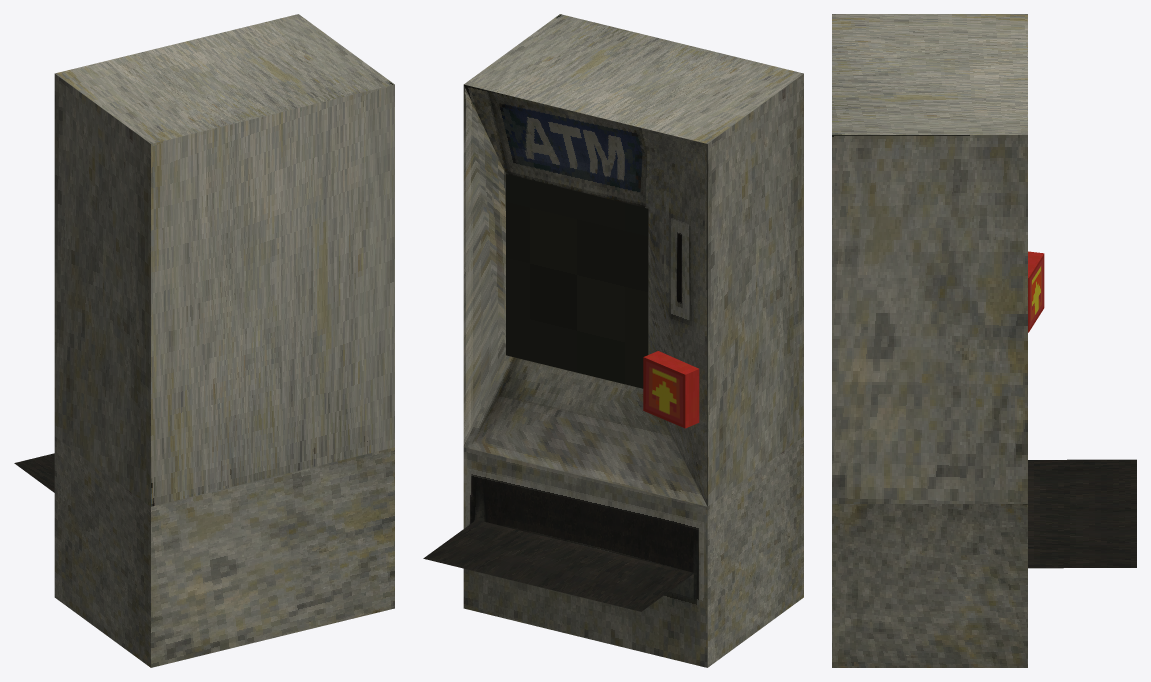
File: ATM.glb
3 renders of one model, left to right at view 1: azimuth 30°, elevation 25°; view 2: azimuth 150°, elevation 25°; view 3: azimuth 270°, elevation 25°, orthographic.
Parts seen in each view (by area): view 1: mesh (×3); view 2: mesh (×3), group; view 3: mesh (×3), group.
Part boxes in pixels (x1,y1,x2,y2): mesh (×3): (14, 14, 394, 667); mesh (×3): (423, 14, 803, 667); group: (643, 351, 699, 428); mesh (×3): (832, 14, 1136, 667); group: (1028, 251, 1044, 332).
Size of the model in its own units: 1.19 by 2.44 by 1.26.
Materials: 3 (2 with a texture image).
